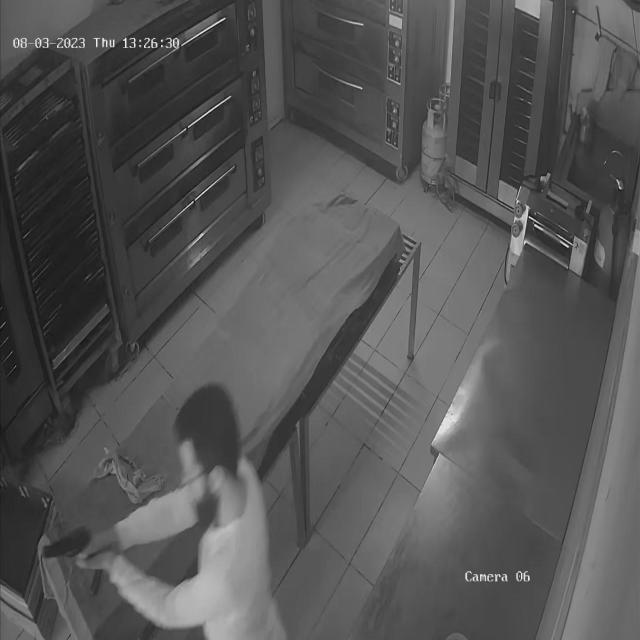Gun: (30, 519, 113, 576)
